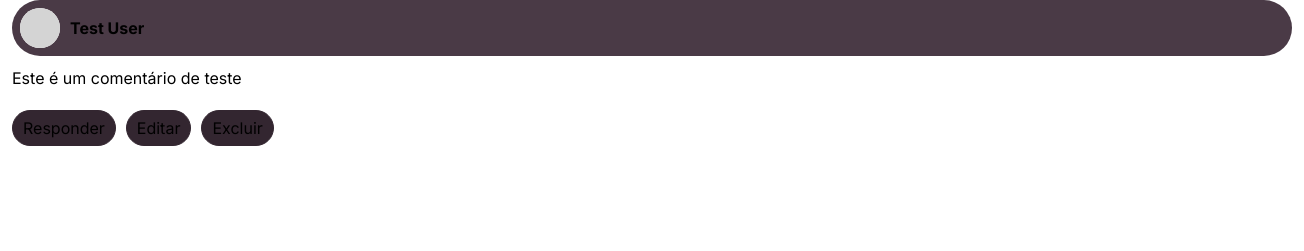
Test: CommentCard › deve cancelar edição ao clicar em Cancelar
Click the text "Editar" at (159, 128), box [126,110,191,146]
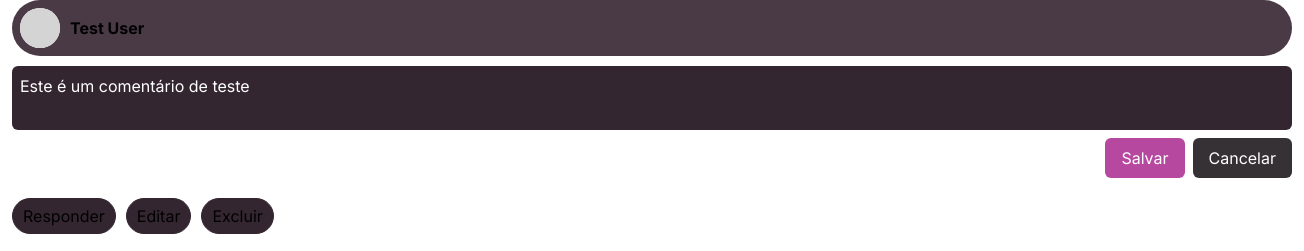
Click the button "Cancelar" at (1242, 158), box [1192,138,1292,178]
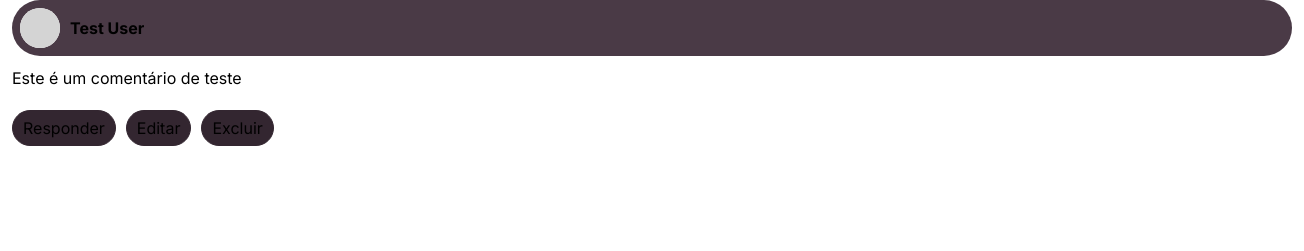
Result: the text "Este é um comentário de teste" is shown at [12,68,242,88]
